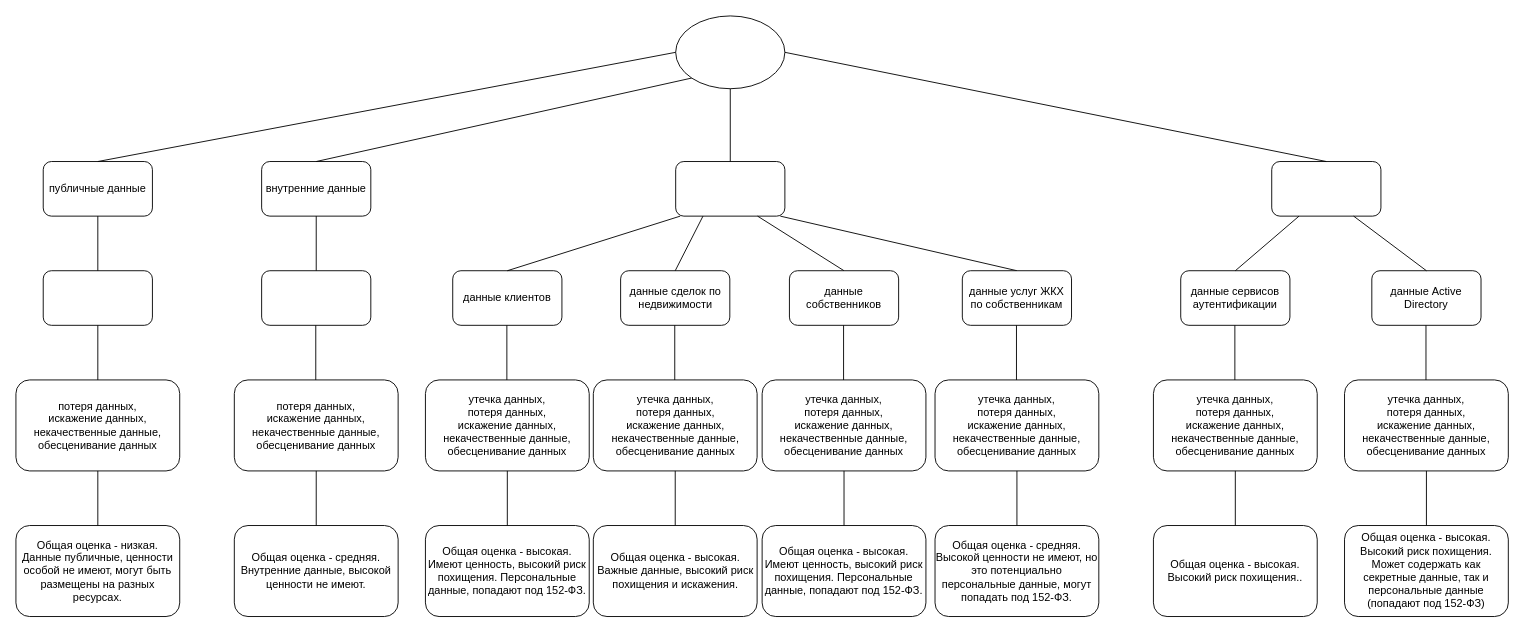
Some shapes in this 1524 by 632 pixel diagram are drawn without their labels. Each missing label, with the centre of its shape:
Безопасность данных: the point at 730,52
данные объектов недвижимости: the point at 316,297
данные онлайн-тура: the point at 97,297
конфиденциальные данные: the point at 730,188
секретные данные: the point at 1326,188
